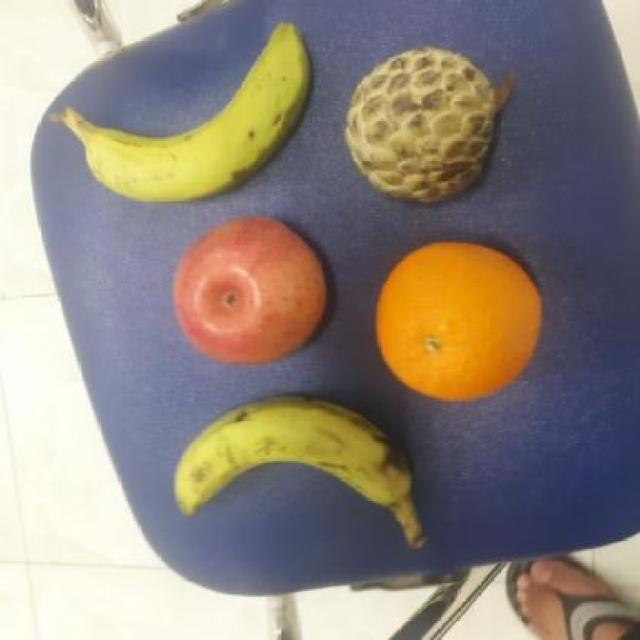apple: (171, 211, 331, 371)
banana: (62, 19, 322, 204), (163, 394, 422, 518)
oren: (373, 236, 549, 399)
sugar apple: (341, 44, 501, 204)
